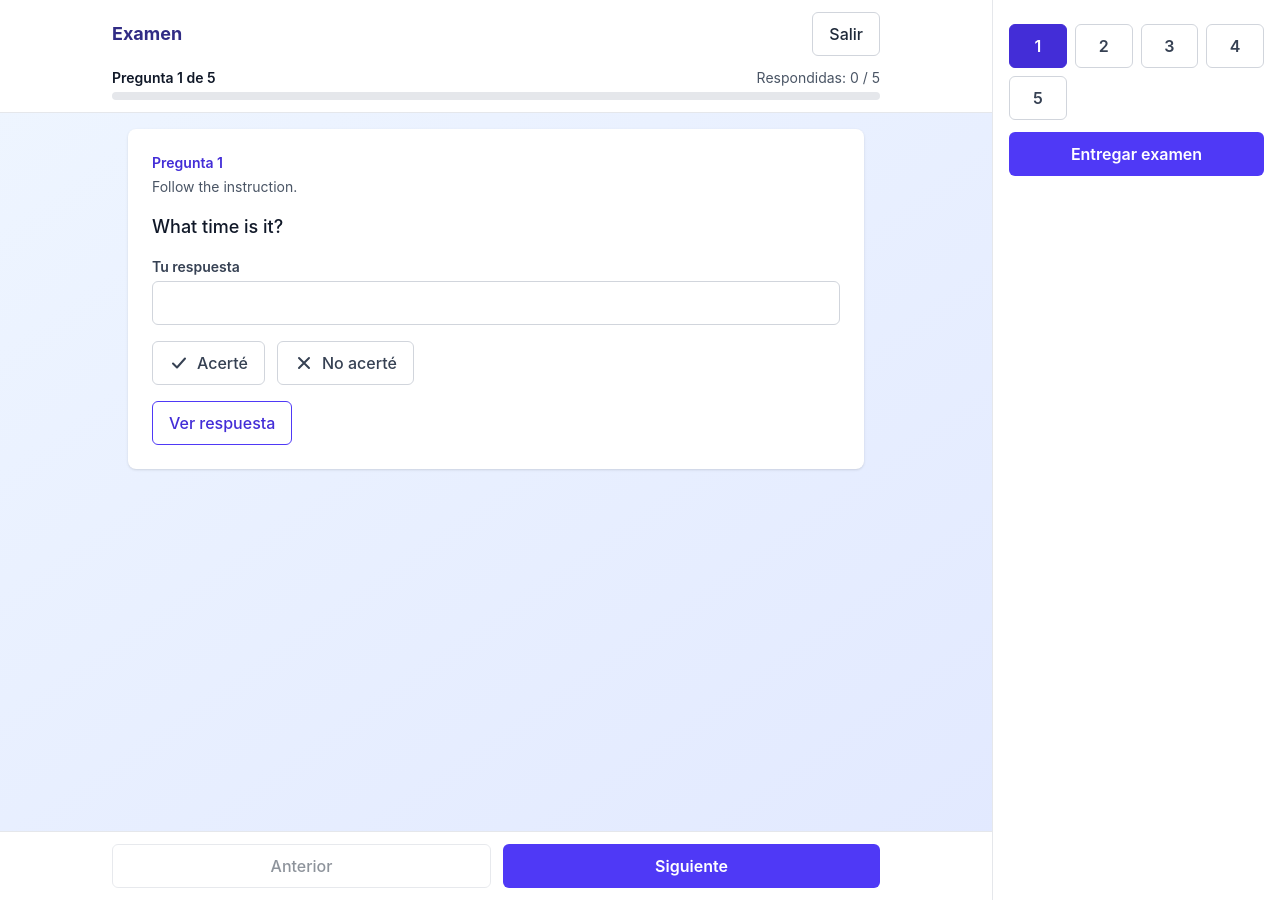
Test: ExamPage - answers persist › keeps self-check text, reveal and mark when moving away and back
The image size is (1280, 900).
Step 1. Click the button "5" → coordinates (1038, 98), box [1009,76,1067,120]
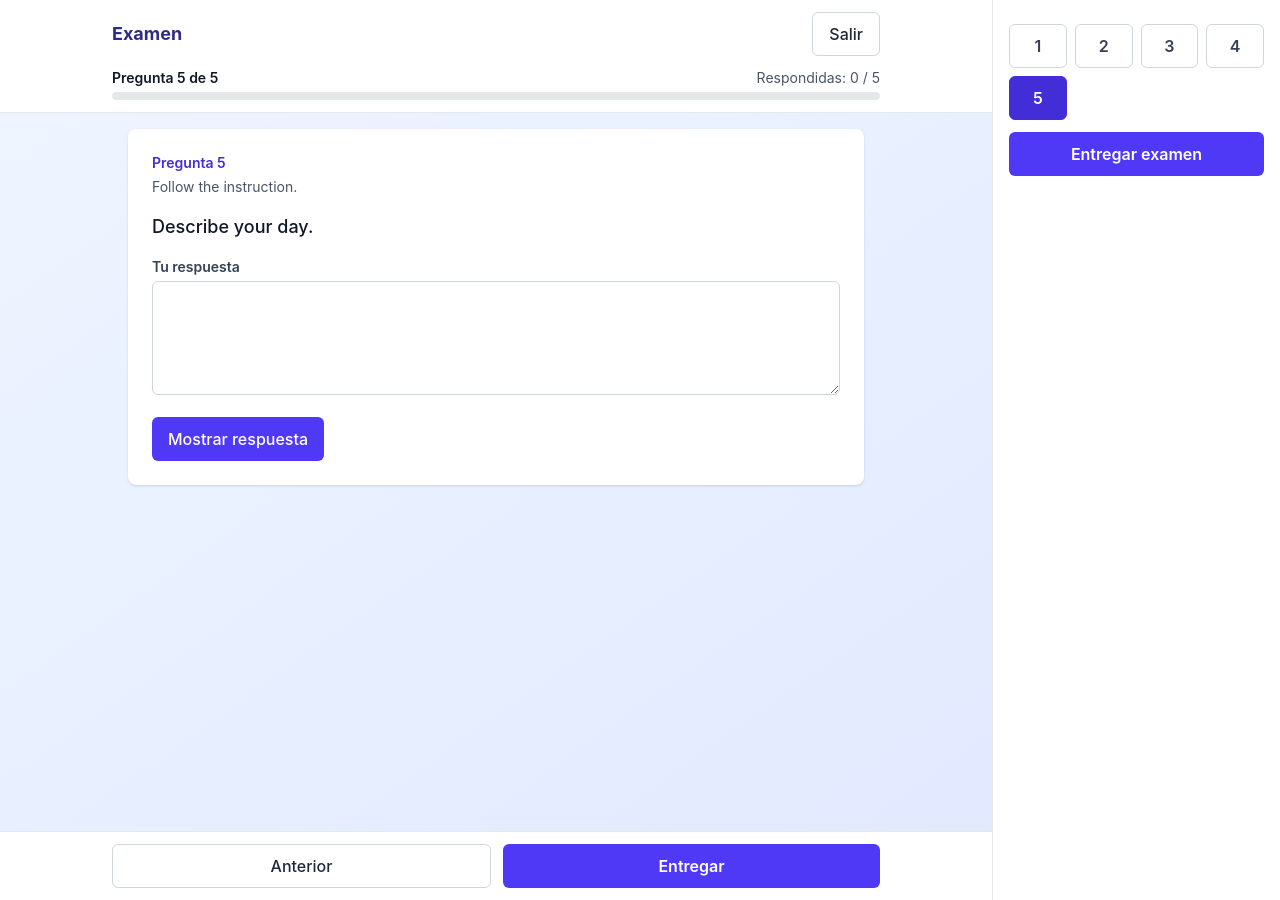
Step 2. Type "my day" into the text box labelled "Tu respuesta" → coordinates (496, 338), box [152,281,840,395]
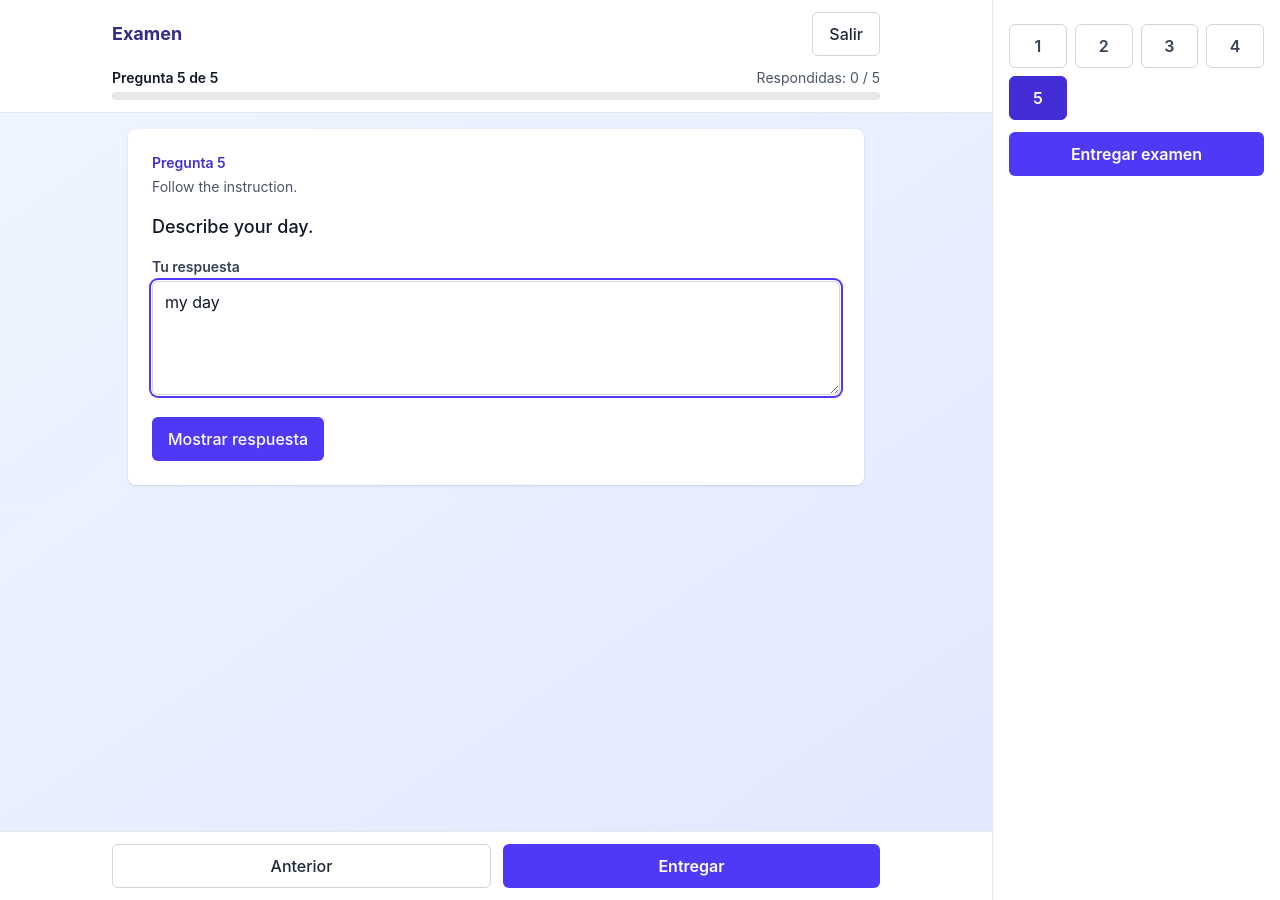
Step 3. Click the button "Mostrar respuesta" → coordinates (238, 439), box [152,417,324,461]
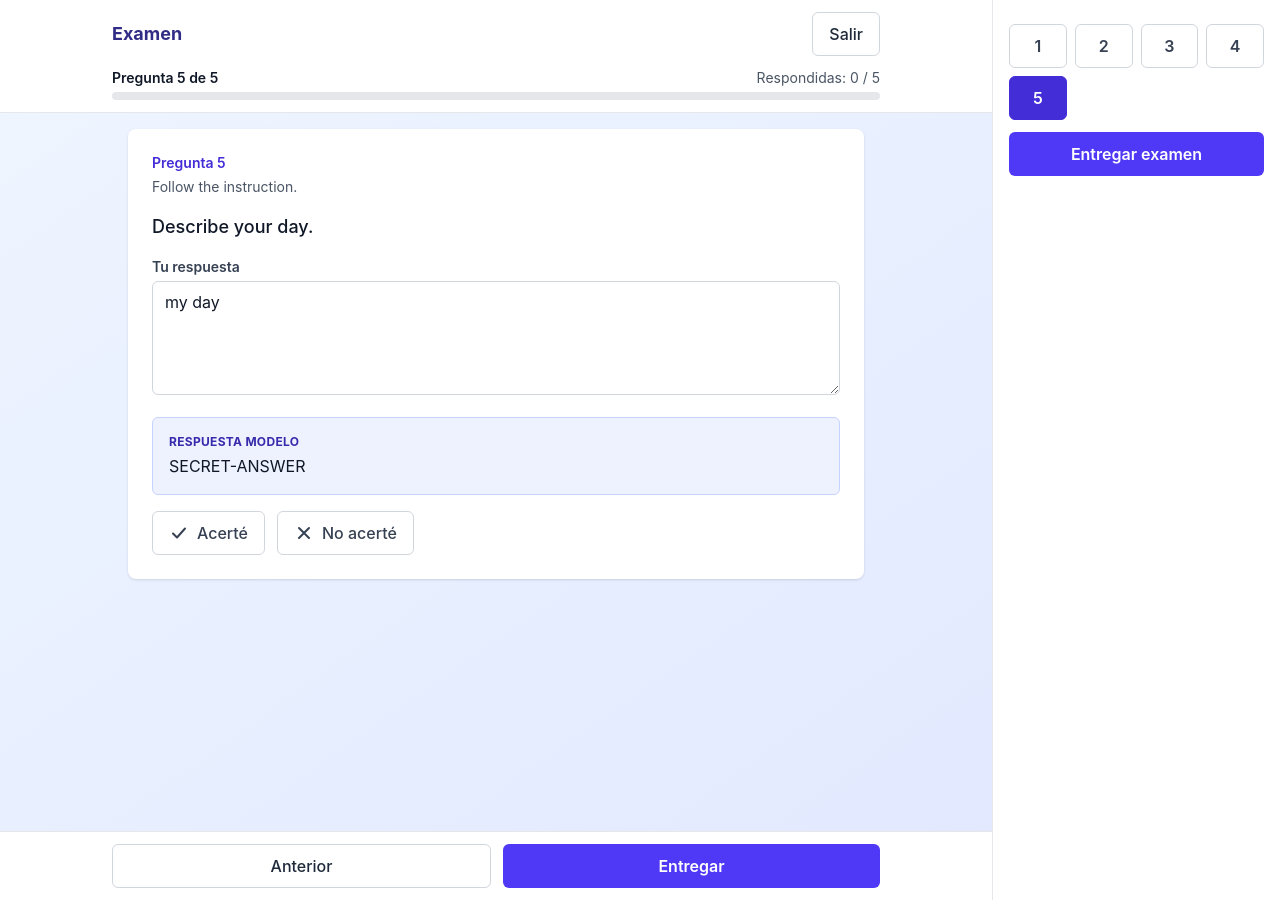
Step 4. Click the button "No acerté" → coordinates (345, 533), box [277,511,414,555]
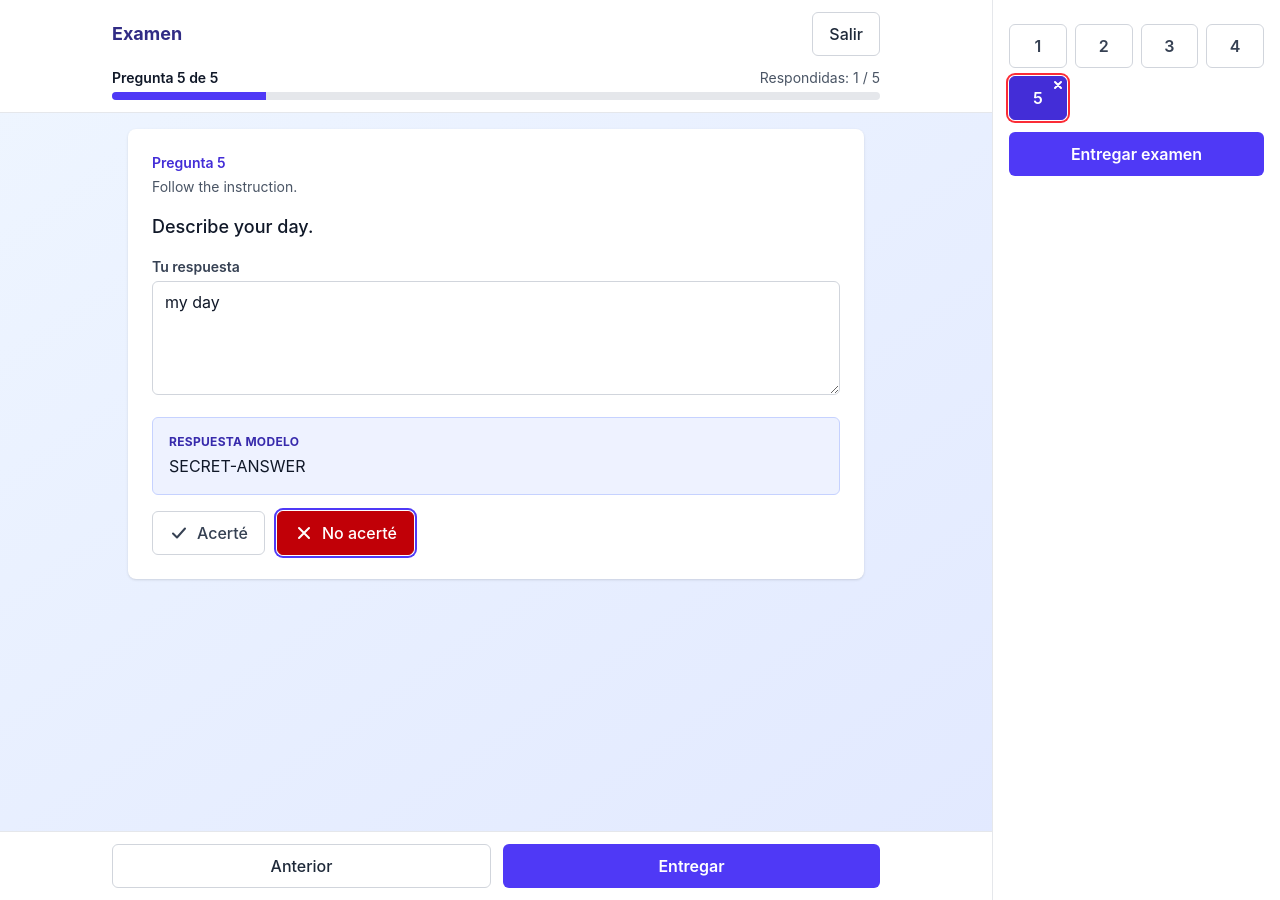
Step 5. Click the button named "Pregunta 1," → coordinates (1038, 46), box [1009,24,1067,68]
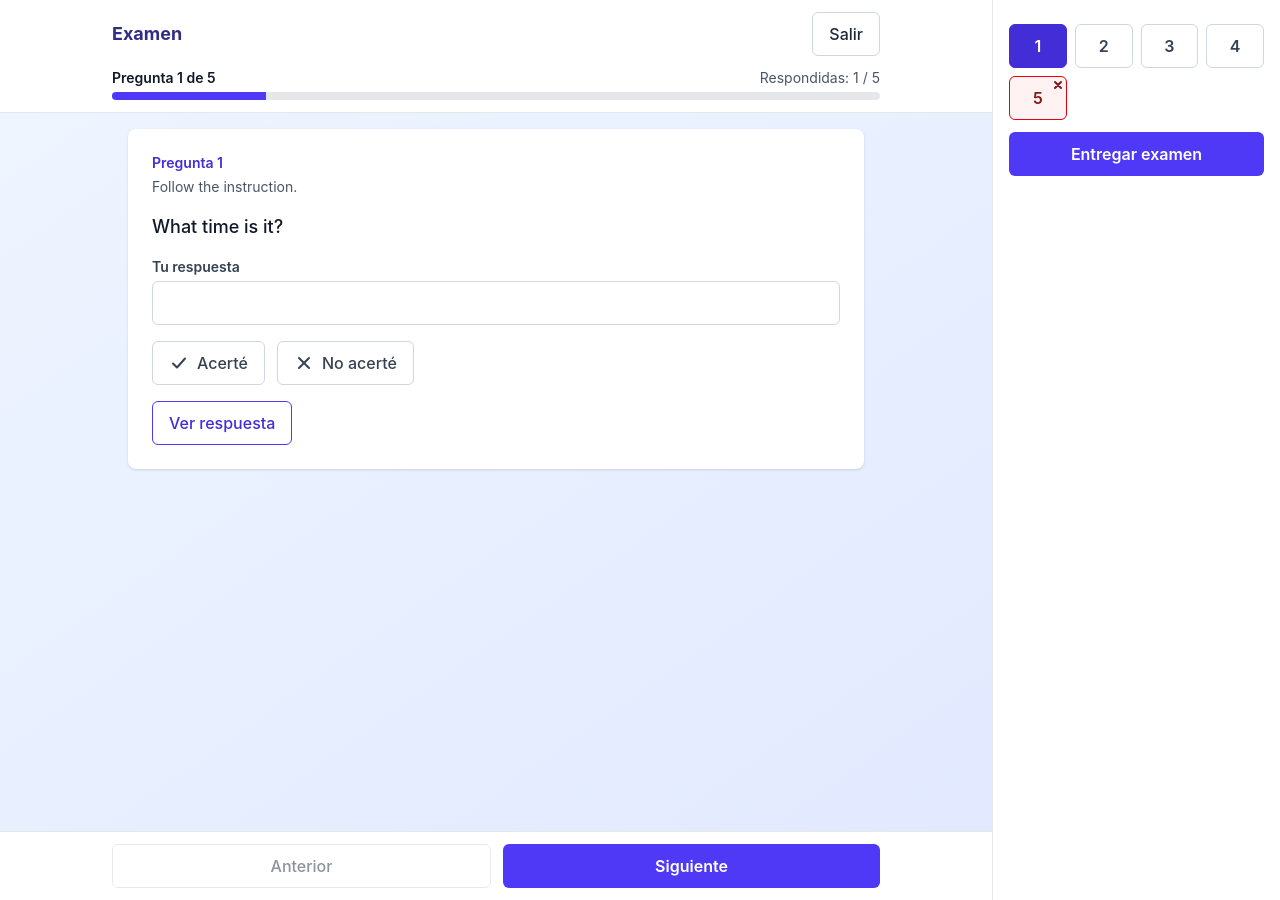
Step 6. Click the button "5" → coordinates (1038, 98), box [1009,76,1067,120]
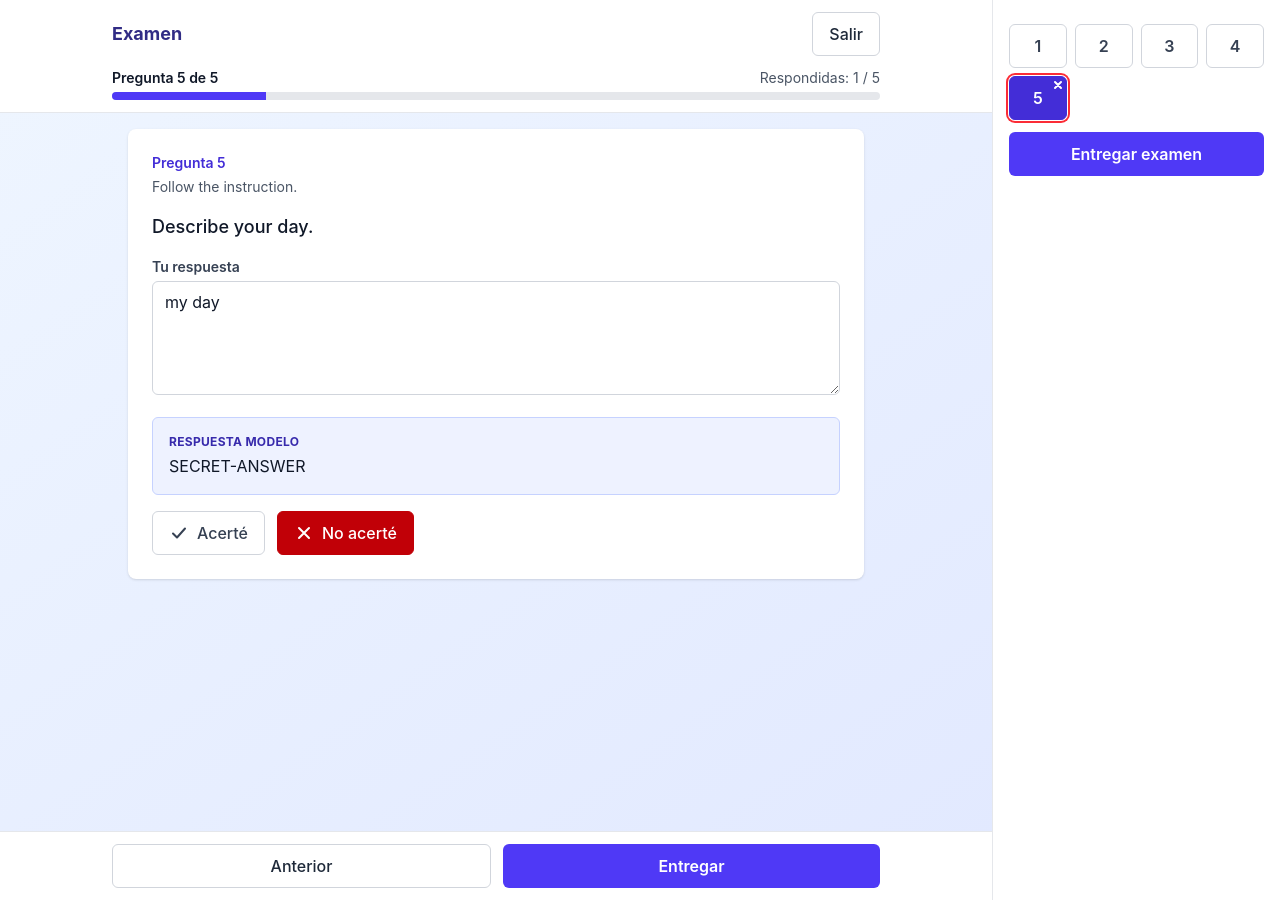
Expected: the button "Mostrar respuesta" is not shown
Now the text box labelled "Tu respuesta" holds "my day", box [152,281,840,395]
